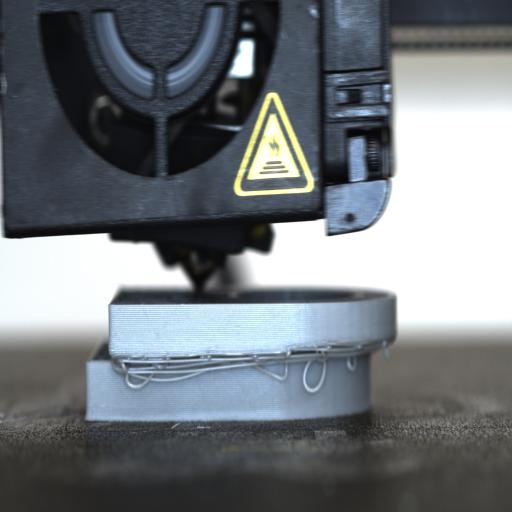layer_shift: (85, 343, 399, 369)
